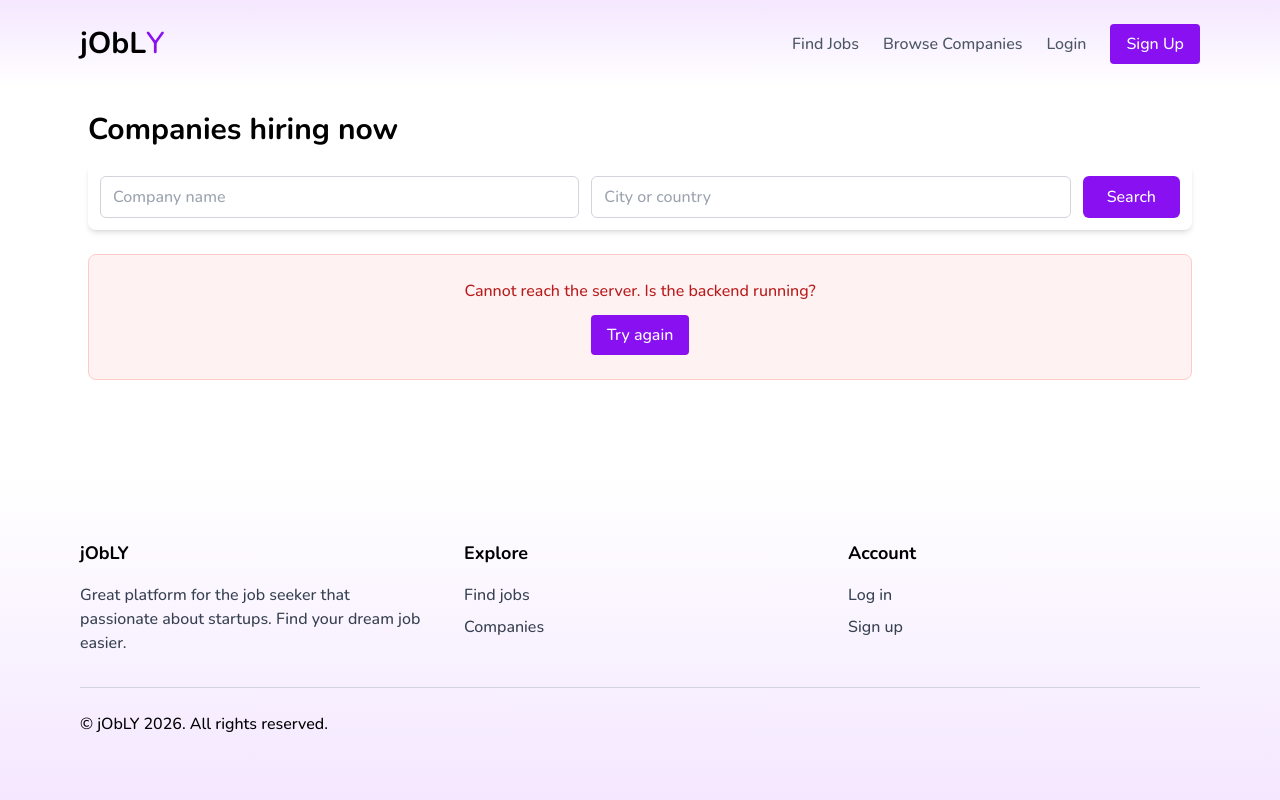
Test: CompaniesPage › error state offers retry
The width and height of the screenshot is (1280, 800).
Click the button "Try again".
click(640, 335)  # box x1=591 y1=315 x2=689 y2=355
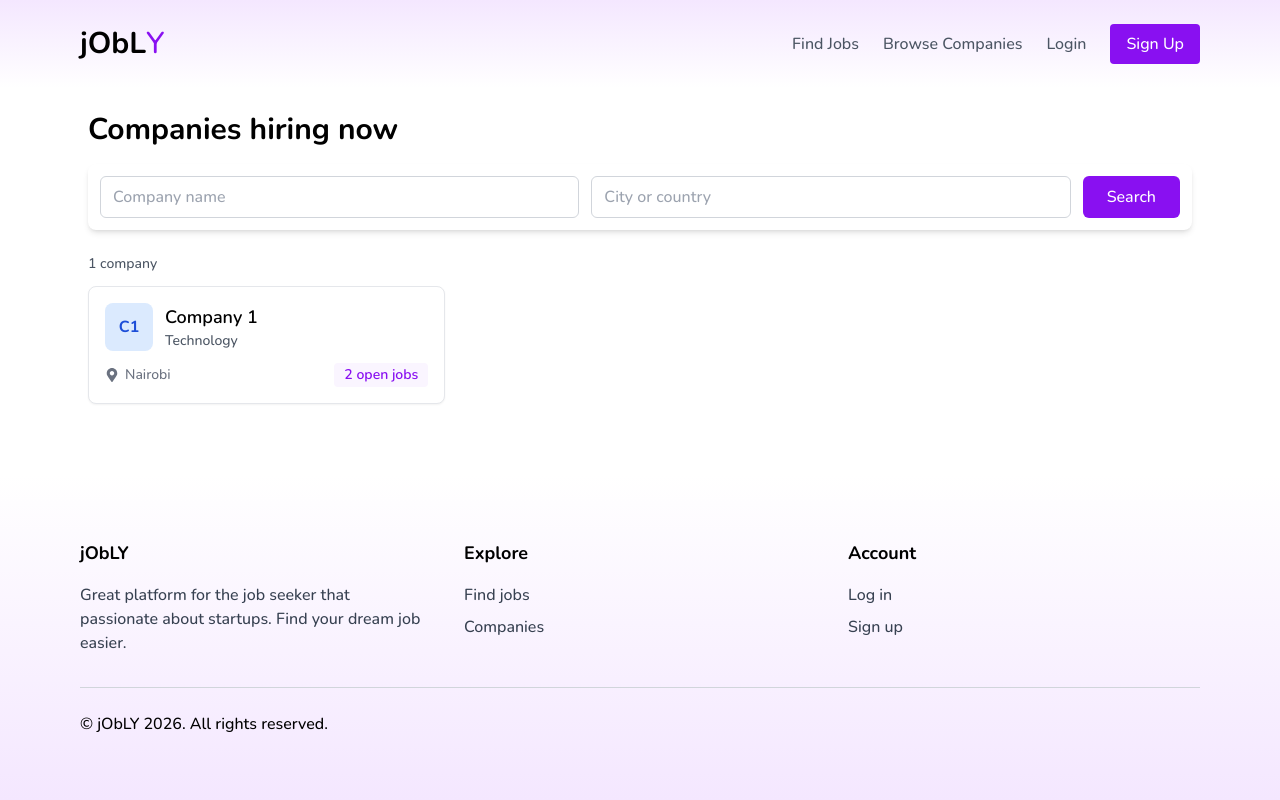
Check: the heading "Company 1" is shown, box x1=165 y1=303 x2=258 y2=331
